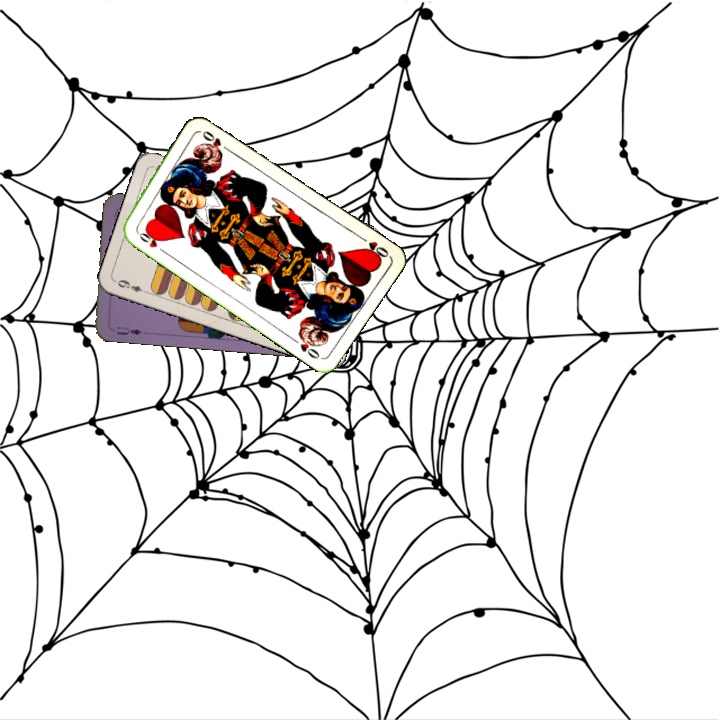E9: (113, 275, 151, 297)
EU: (113, 322, 144, 338)
HO: (355, 232, 391, 263), (131, 225, 167, 255)
